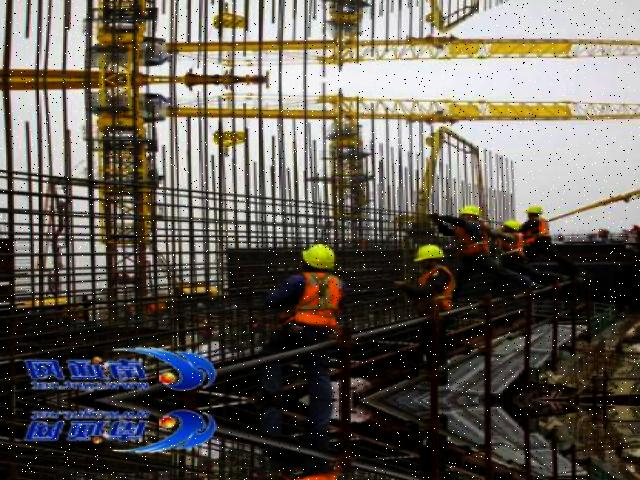Helmet: (302, 241, 344, 272), (409, 239, 453, 265), (458, 202, 487, 218), (526, 200, 548, 218), (505, 216, 526, 234)
